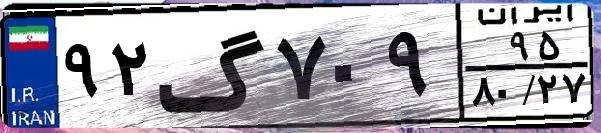0: (330, 28, 385, 110), (495, 70, 520, 125)
2: (110, 28, 156, 98), (535, 70, 560, 125)
5: (537, 27, 568, 80)
7: (270, 28, 330, 110), (560, 70, 590, 125)
8: (470, 70, 495, 125)
9: (385, 28, 445, 110), (57, 26, 110, 100), (508, 27, 537, 80)
گ: (156, 12, 270, 120)
